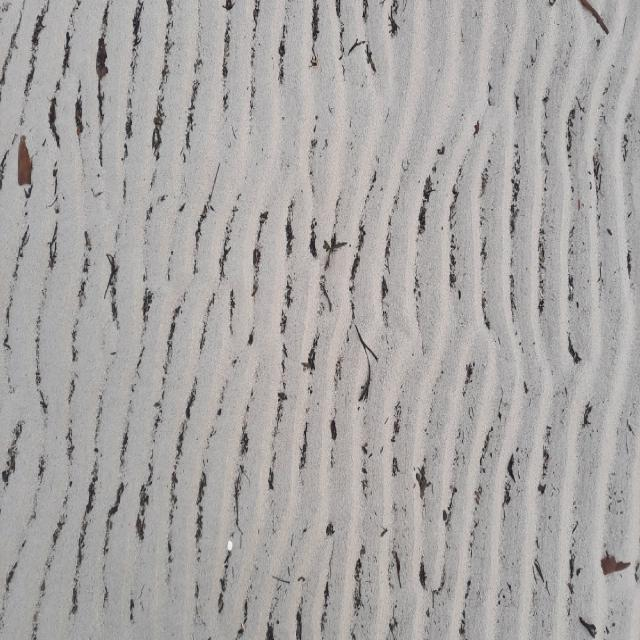white-sand: (0, 0, 639, 639)
